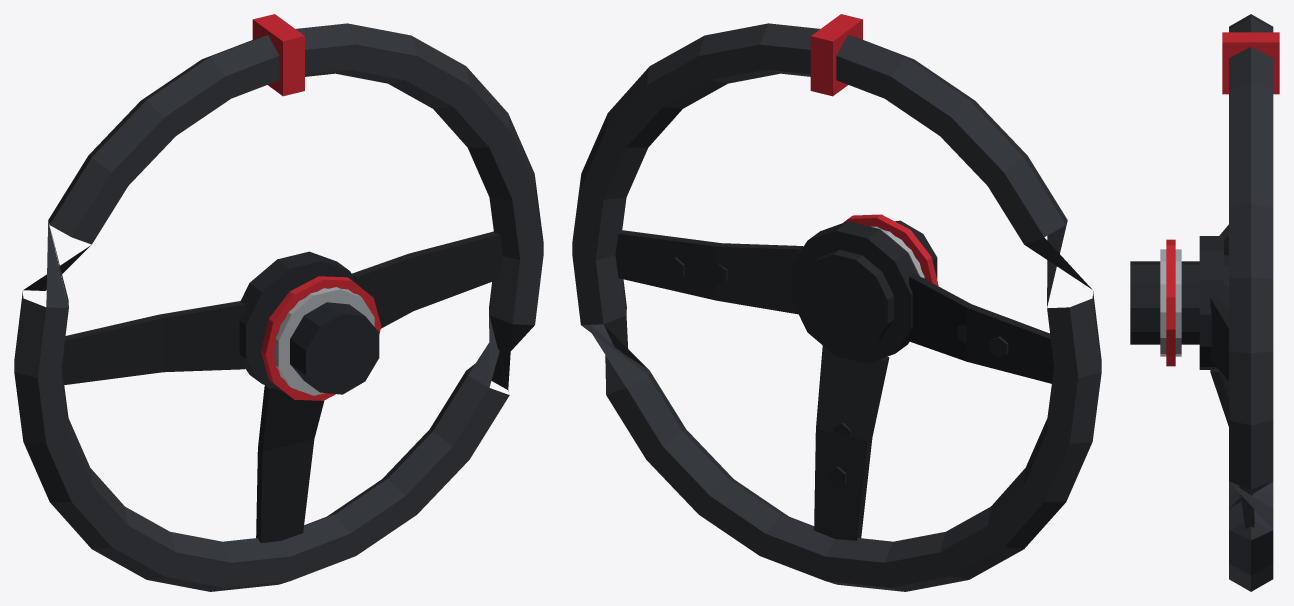
Rendered from brute_500.glb.
3 views of the same model, side by side, from view 1: azimuth 30°, elevation 25°; view 2: azimuth 150°, elevation 25°; view 3: azimuth 270°, elevation 25° (orthographic). The views are drawn at different scales.
Visible parts, largest first — view 1: model; view 2: model; view 3: model.
Part boxes in pixels (x1,y1,x2,y2): model: (14, 14, 543, 591); model: (572, 14, 1101, 591); model: (1130, 14, 1279, 591).
Size of the model in its own units: 0.384 by 0.386 by 0.099.
4 materials, 1 textured.
